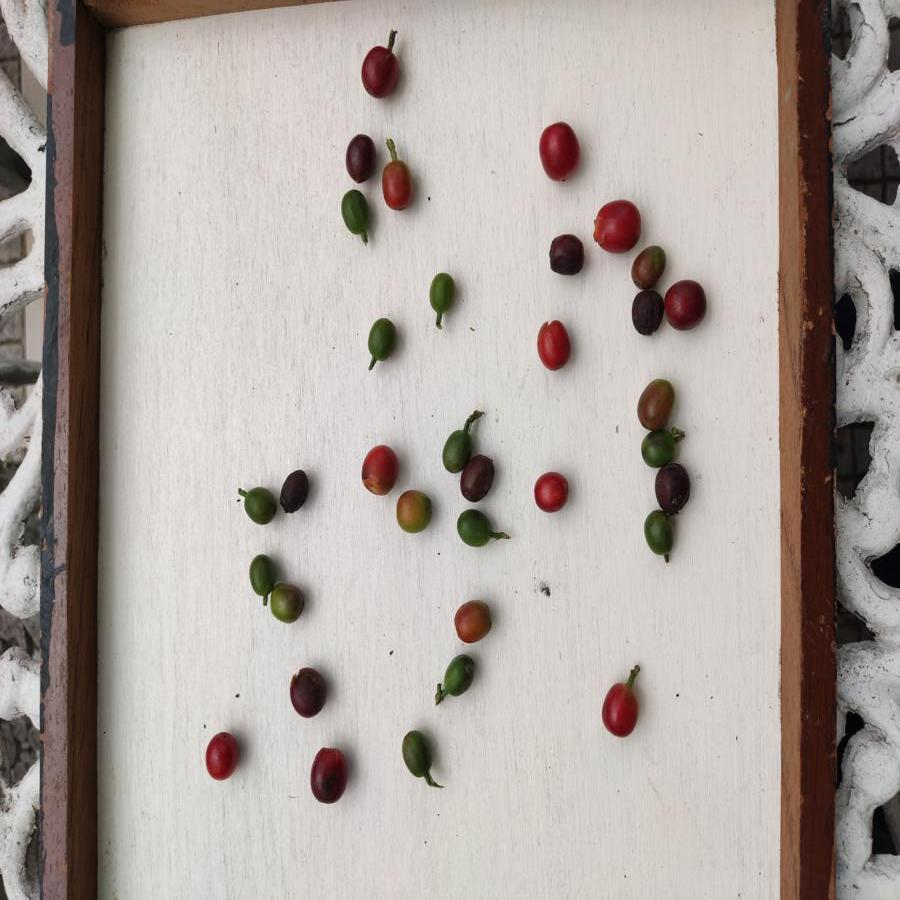Inmaduro: (401, 730, 431, 782), (456, 509, 493, 551), (367, 313, 398, 363), (240, 485, 277, 526), (642, 510, 673, 558), (339, 189, 370, 235), (447, 653, 476, 699), (639, 431, 675, 467), (427, 269, 455, 315), (249, 555, 278, 594), (444, 431, 471, 471)
Maduro: (591, 199, 642, 255), (536, 117, 579, 182), (597, 681, 642, 740), (380, 158, 418, 214), (203, 732, 243, 785), (534, 318, 571, 372), (361, 445, 397, 494), (532, 472, 570, 512)
Pinton: (636, 375, 677, 430), (395, 488, 436, 534), (452, 599, 493, 642), (267, 583, 307, 623), (634, 244, 664, 291)
Sobremaduro: (358, 40, 402, 99), (663, 277, 707, 331), (310, 746, 347, 806), (288, 665, 327, 719), (655, 463, 690, 517), (546, 234, 588, 277), (463, 454, 496, 504), (345, 133, 376, 185), (279, 466, 311, 513), (631, 291, 664, 336)
